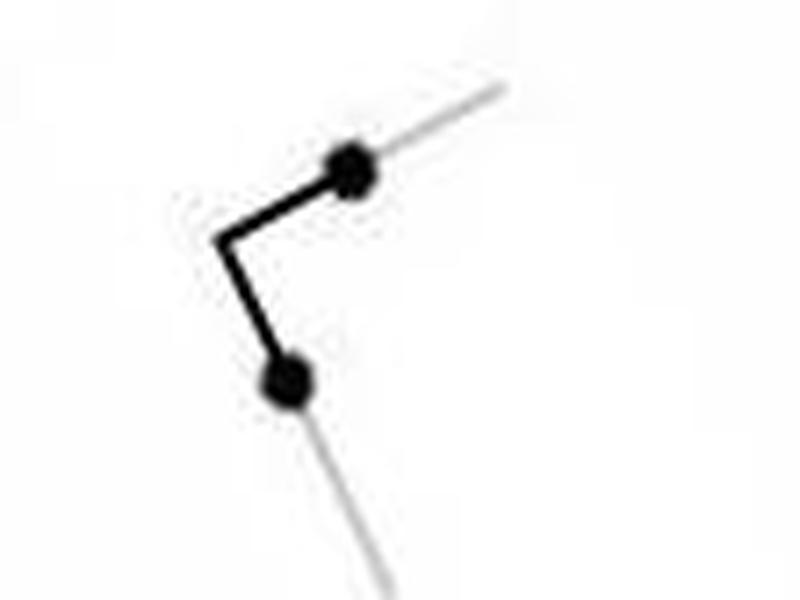butt_weld_90: (125, 100, 607, 482)
